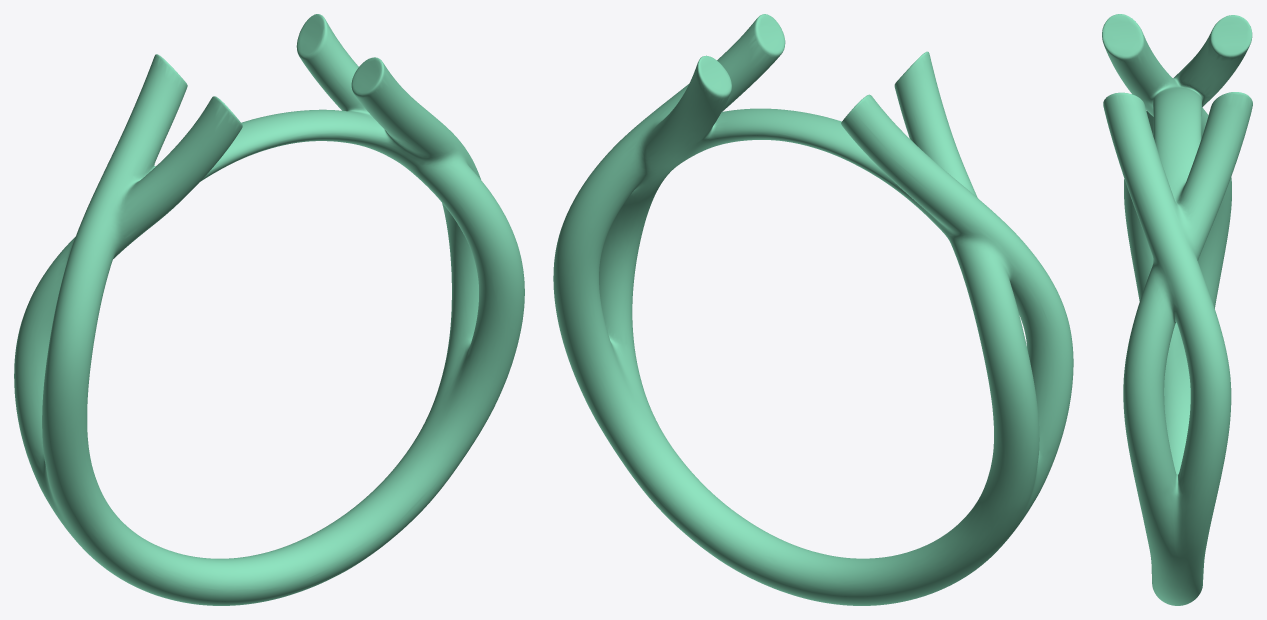
3 views of the same model, side by side, from view 1: azimuth 30°, elevation 25°; view 2: azimuth 150°, elevation 25°; view 3: azimuth 270°, elevation 25° (orthographic). The views are drawn at different scales.
Visible parts, largest first — view 1: Metal02; view 2: Metal02; view 3: Metal02.
Part boxes in pixels (left/top/right/bottom): Metal02: left=14, top=14, right=524, bottom=605; Metal02: left=553, top=14, right=1073, bottom=605; Metal02: left=1102, top=14, right=1252, bottom=605.
Size of the model in its own units: 21.15 by 22.76 by 5.89.
